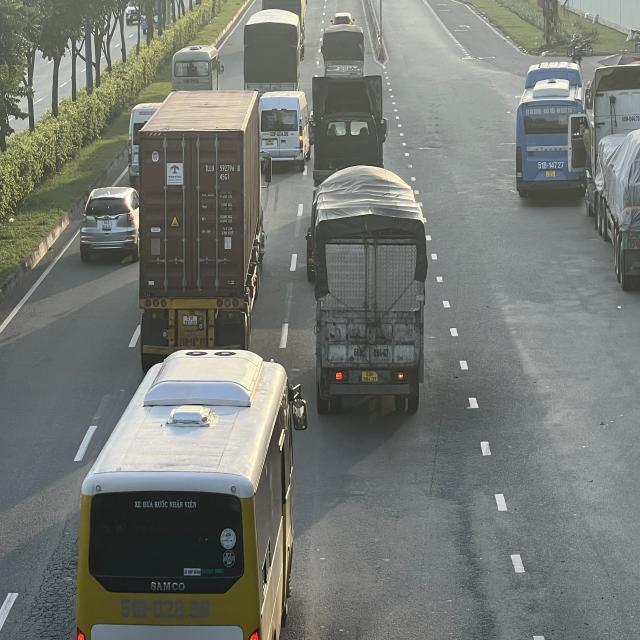car: (82, 186, 144, 262)
coach: (76, 349, 300, 640), (518, 61, 587, 197)
container: (138, 89, 265, 344), (583, 63, 638, 297)
truck: (308, 166, 426, 418), (240, 10, 300, 90), (321, 23, 368, 77)
van: (259, 92, 312, 170)
